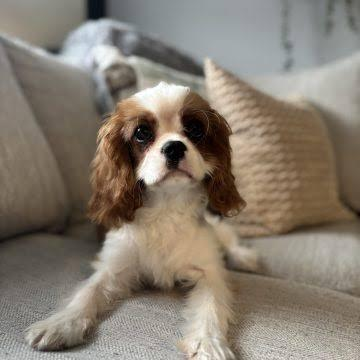puppy-dog: (26, 86, 246, 354)
